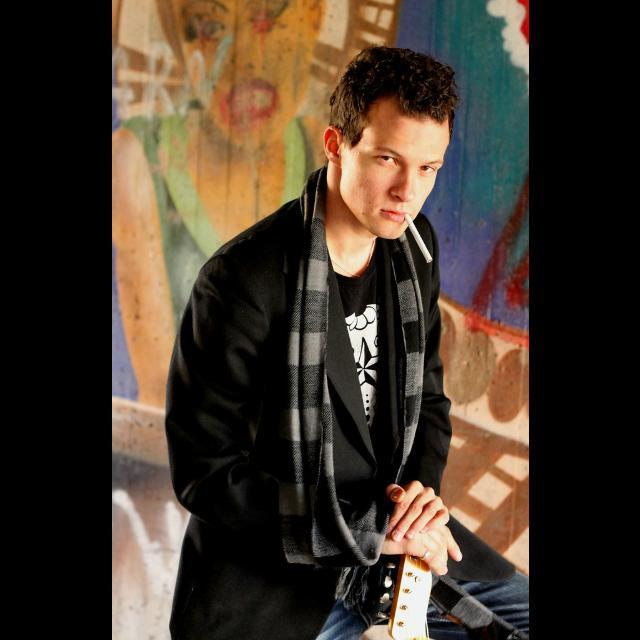rokok: (404, 210, 434, 264)
